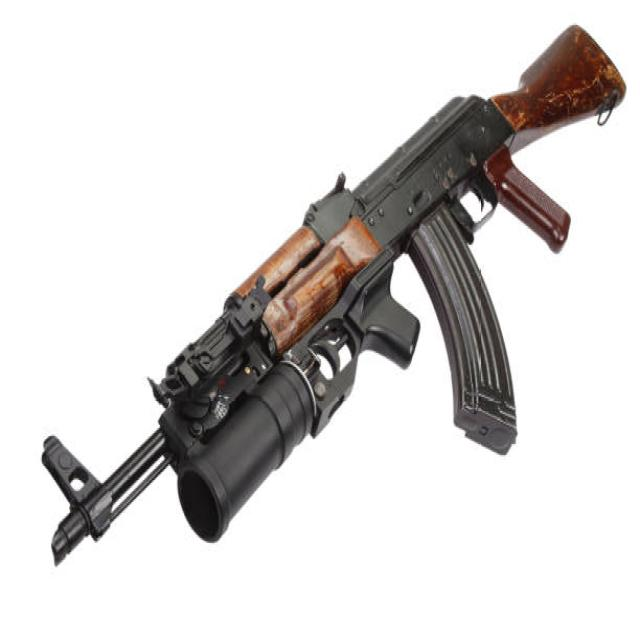rifle: (43, 15, 628, 577)
